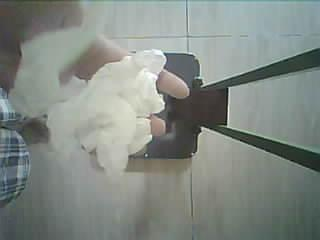paper: (10, 30, 166, 169)
